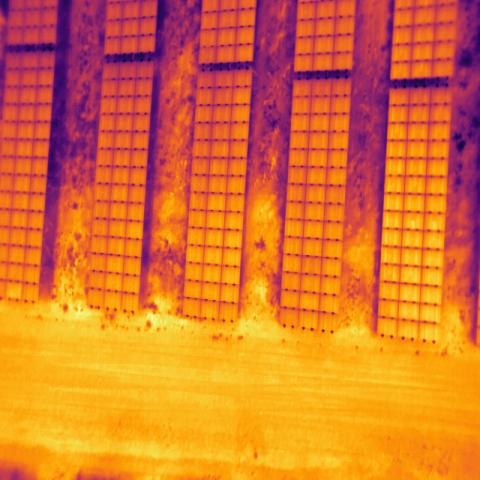fault: (5, 280, 23, 306)
